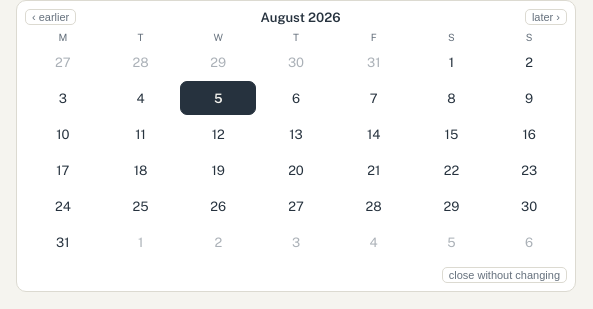
Test: browsing is not choosing — stepping the panel picks nothing
Step 1. Click the button with aria-label "Next month" → (546,17), box top-left (525, 9), bottom-right (567, 25)
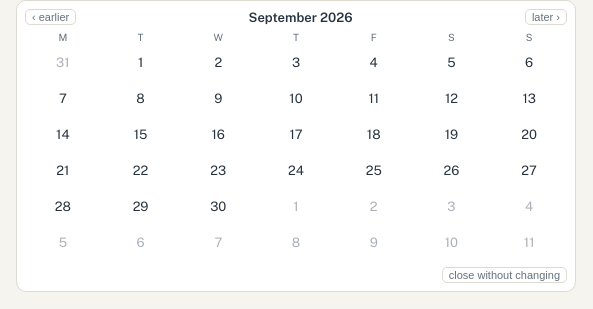
expect the text "September 2026" is shown: met, box top-left (249, 10), bottom-right (352, 24)
Step 2. Click the button with aria-label "Previous month" → (51,17), box top-left (25, 9), bottom-right (76, 25)
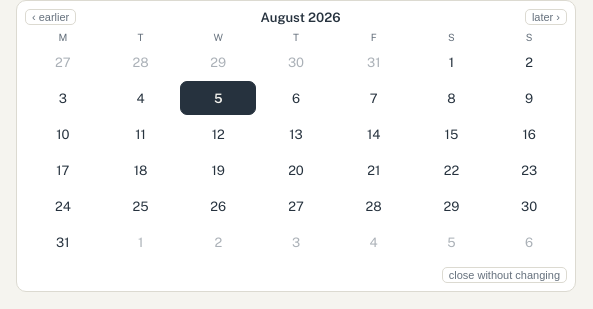
expect the text "August 2026" is shown: met, box top-left (261, 10), bottom-right (341, 24)
